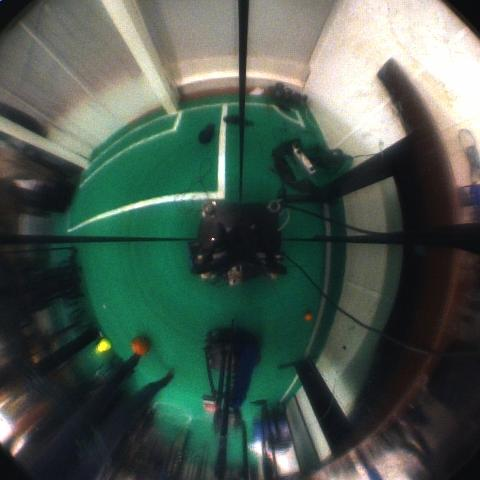ball: (131, 337, 150, 354), (97, 338, 111, 351), (305, 314, 311, 321)
goal: (102, 1, 177, 115), (0, 116, 91, 170)
person: (23, 354, 176, 479)
robot: (203, 327, 262, 479)
